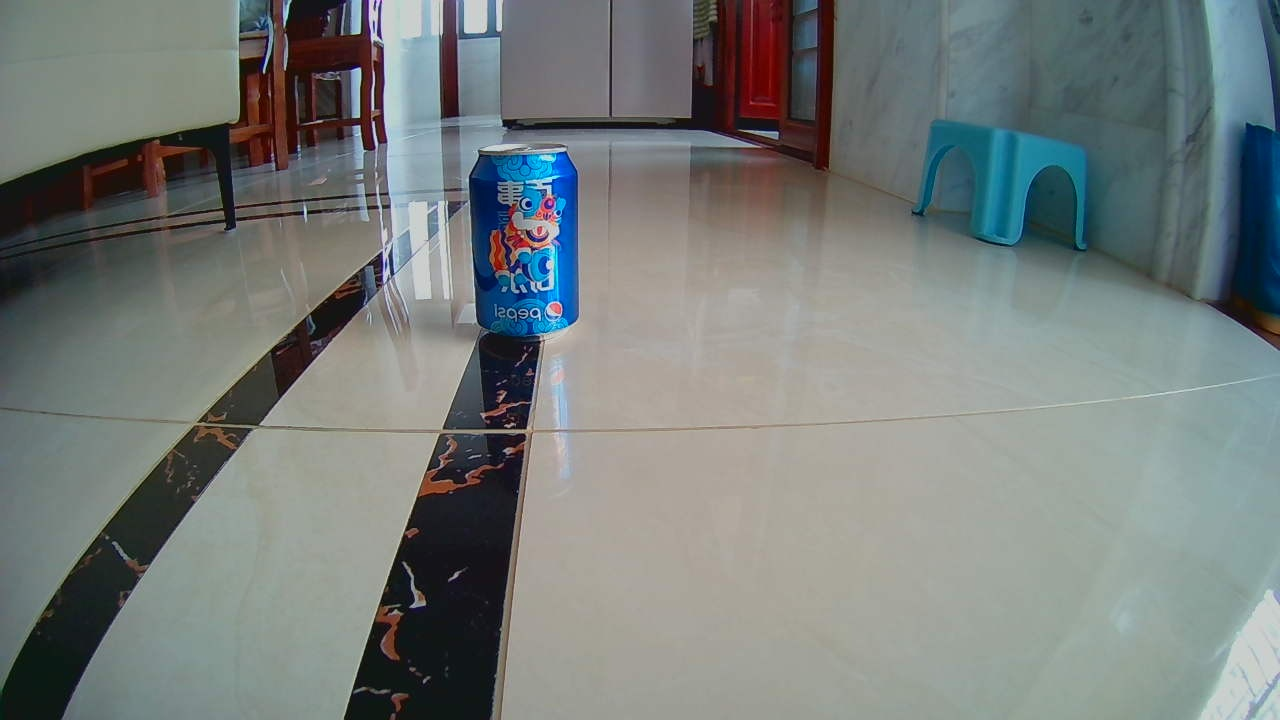pessi: (467, 146, 580, 334)
